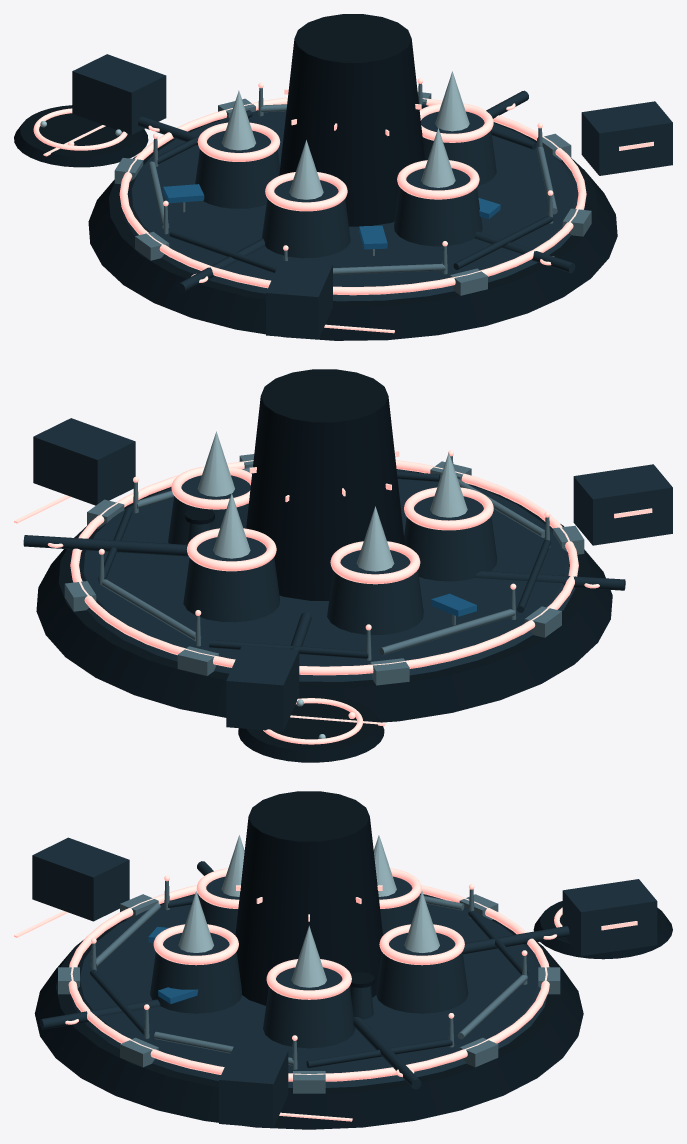
Rendered from missileSilo-stage2.glb.
3 renders of one model, top to bottom at view 1: azimuth 30°, elevation 25°; view 2: azimuth 150°, elevation 25°; view 3: azimuth 270°, elevation 25°, orthographic. The views are drawn at different scales.
Parts seen in each view (by area): view 1: upper-deck, command-bunker, armored-foundation, perimeter-light, industrial-annex-1, industrial-annex-2, detail (×4), landing-pad, industrial-annex-0, silo-1, silo-2, silo-3 (+17 smaller); view 2: upper-deck, command-bunker, armored-foundation, industrial-annex-2, perimeter-light, industrial-annex-0, detail (×4), industrial-annex-1, landing-pad, silo-4, silo-3, silo-2 (+18 smaller); view 3: upper-deck, command-bunker, armored-foundation, industrial-annex-0, industrial-annex-1, detail (×5), perimeter-light, industrial-annex-2, silo-4, silo-0, silo-1, landing-pad (+21 smaller).
Part boxes in pixels (left/top/right/bottom): upper-deck: left=122, top=111, right=584, bottom=301; command-bunker: left=279, top=14, right=424, bottom=226; armored-foundation: left=88, top=110, right=617, bottom=340; perimeter-light: left=119, top=97, right=586, bottom=295; industrial-annex-1: left=72, top=54, right=166, bottom=134; industrial-annex-2: left=581, top=101, right=672, bottom=175; detail (×4): left=197, top=103, right=493, bottom=211; landing-pad: left=14, top=105, right=148, bottom=167; industrial-annex-0: left=266, top=260, right=332, bottom=339; silo-1: left=394, top=168, right=482, bottom=246; silo-2: left=262, top=180, right=350, bottom=258; silo-3: left=195, top=130, right=279, bottom=208; upper-deck: left=72, top=469, right=575, bottom=681; command-bunker: left=246, top=369, right=404, bottom=600; armored-foundation: left=36, top=469, right=612, bottom=722; industrial-annex-2: left=33, top=418, right=135, bottom=505; perimeter-light: left=70, top=460, right=578, bottom=675; industrial-annex-0: left=573, top=464, right=672, bottom=545; detail (×4): left=171, top=466, right=493, bottom=584; industrial-annex-1: left=226, top=645, right=299, bottom=731; landing-pad: left=238, top=694, right=384, bottom=762; silo-4: left=183, top=537, right=279, bottom=622; silo-3: left=327, top=550, right=423, bottom=634; silo-2: left=404, top=496, right=497, bottom=581; upper-deck: left=71, top=894, right=547, bottom=1087; command-bunker: left=235, top=791, right=382, bottom=1005; armored-foundation: left=34, top=893, right=583, bottom=1129; industrial-annex-0: left=32, top=837, right=129, bottom=921; industrial-annex-1: left=562, top=879, right=657, bottom=956; detail (×5): left=153, top=868, right=464, bottom=999; perimeter-light: left=68, top=885, right=549, bottom=1081; industrial-annex-2: left=219, top=1046, right=288, bottom=1128; silo-4: left=376, top=932, right=468, bottom=1013; silo-0: left=263, top=967, right=355, bottom=1048; silo-1: left=150, top=932, right=241, bottom=1013; landing-pad: left=533, top=901, right=672, bottom=959.
Size of the model in its own units: 10.84 by 3.84 by 11.61.
